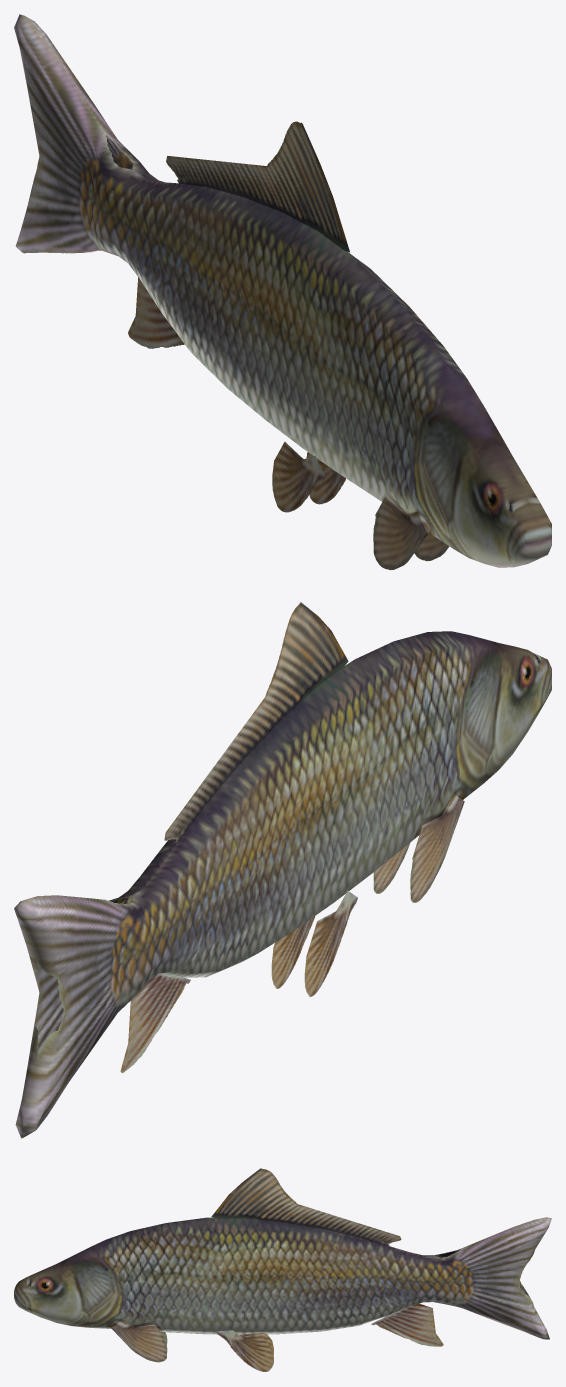
Rendered from fish.obj.
The picture shows the model from 3 angles, top to bottom: view 1: azimuth 30°, elevation 25°; view 2: azimuth 150°, elevation 25°; view 3: azimuth 270°, elevation 25°; orthographic projection. The views are drawn at different scales.
Parts seen in each view (by area): view 1: fish_Cube; view 2: fish_Cube; view 3: fish_Cube.
Boxes of the visible parts, left/top/right/bottom form: fish_Cube: left=14, top=14, right=551, bottom=570; fish_Cube: left=14, top=602, right=551, bottom=1138; fish_Cube: left=14, top=1168, right=551, bottom=1371.
Bounding box in the file's own units: 0.2435 × 2.09 × 5.06.
1 material, 1 textured.
